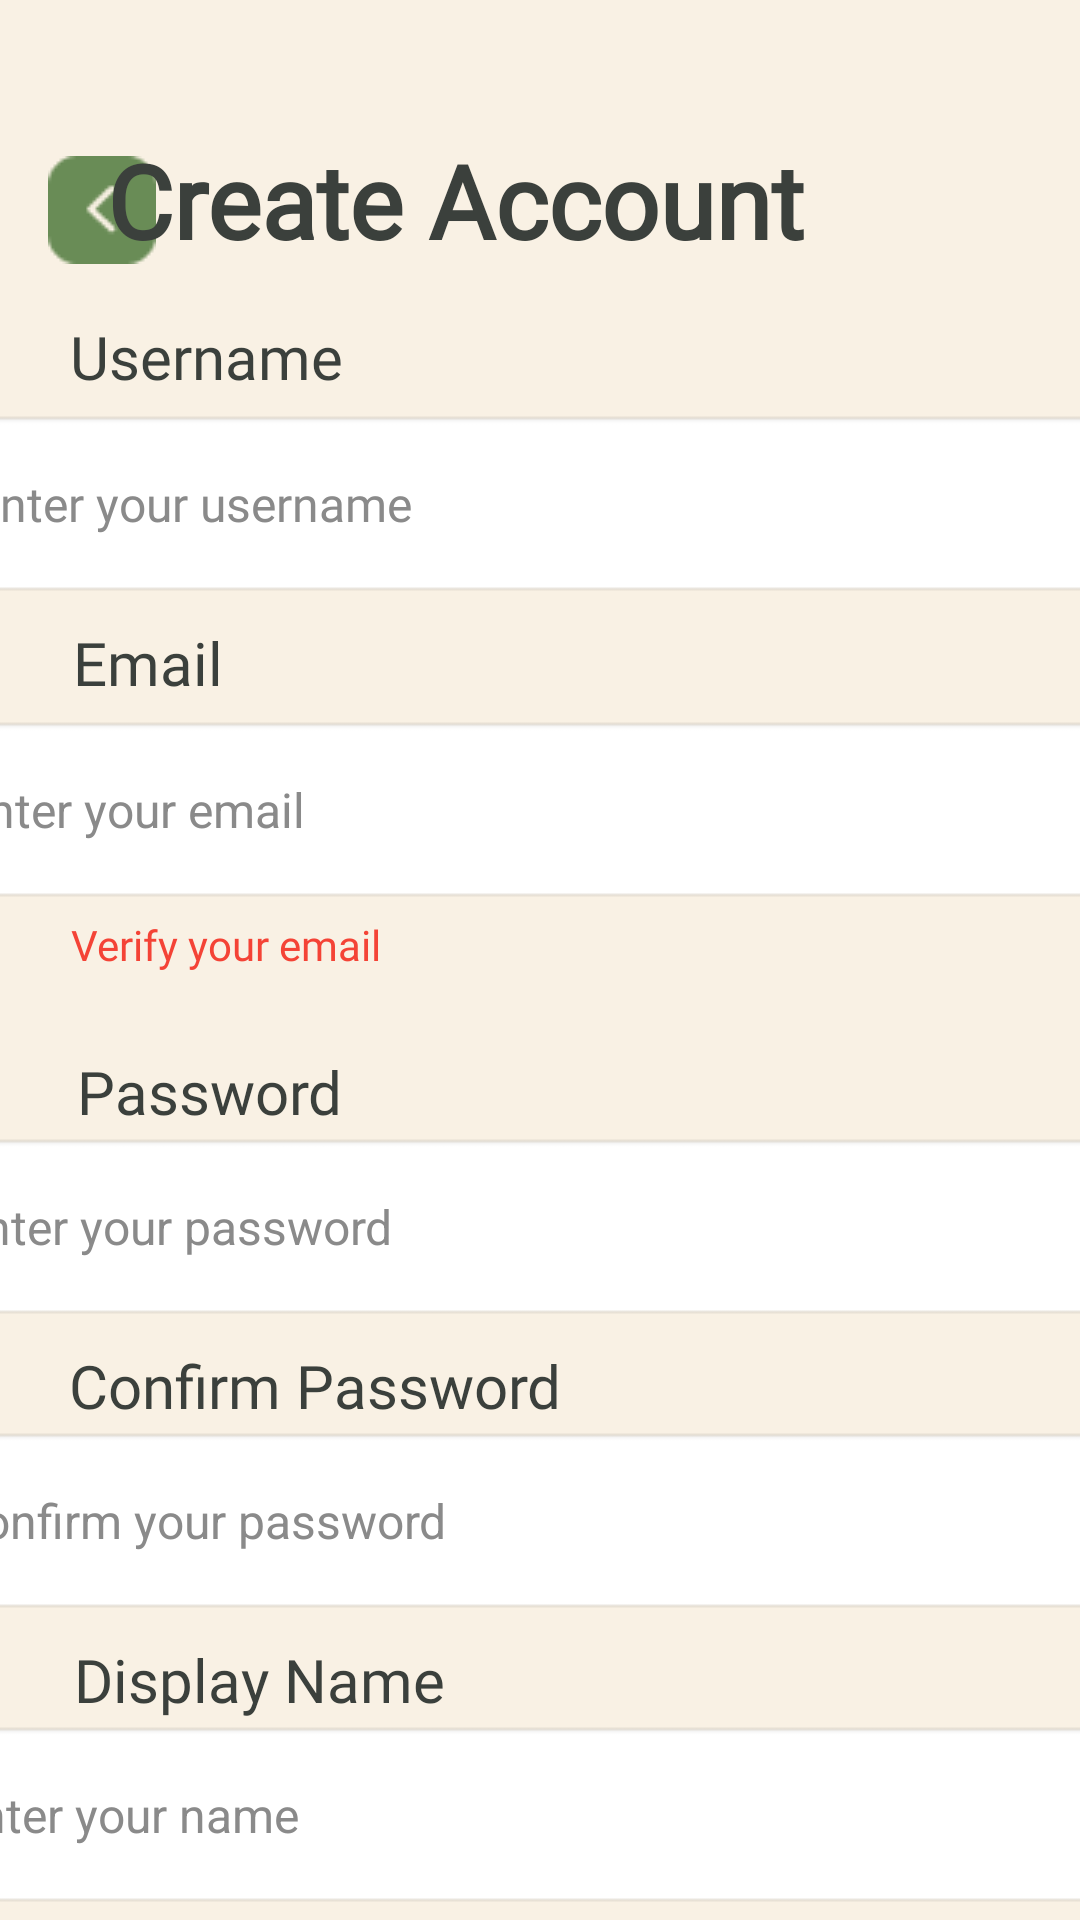

Screen size 1080x1920. Icon name, then its box in pixels as [x1,y1,x2,y2]:
Back Button: [48,156,156,264]
